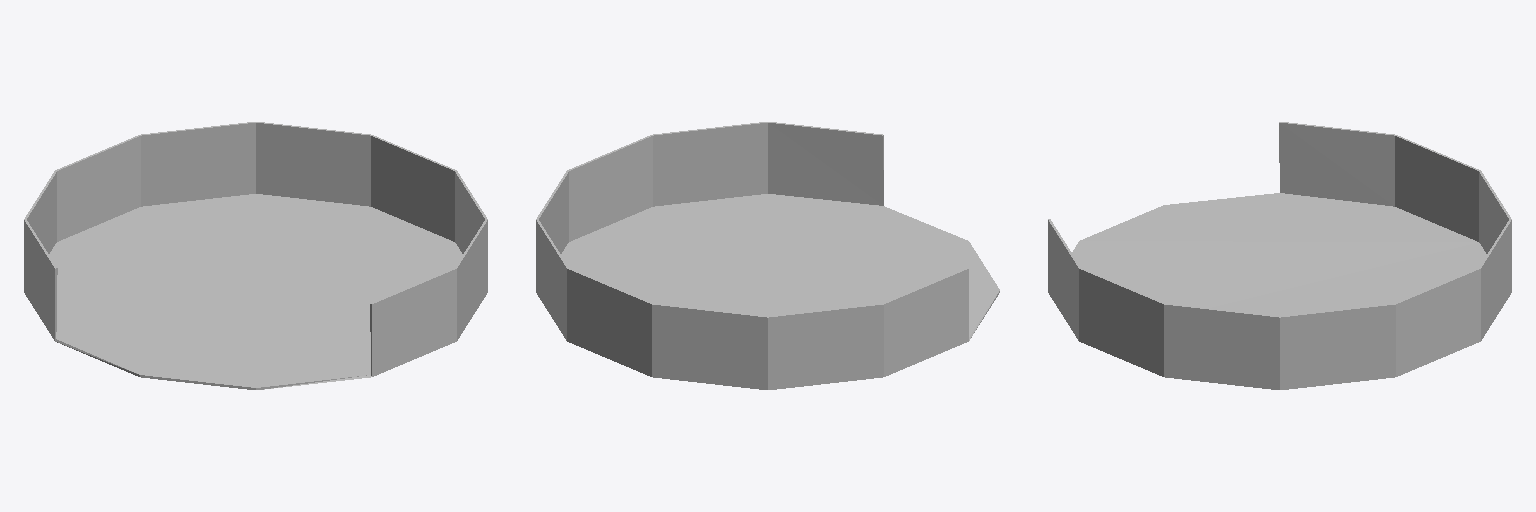
File: lift.obj
The picture shows the model from 3 angles: view 1: azimuth 30°, elevation 25°; view 2: azimuth 150°, elevation 25°; view 3: azimuth 270°, elevation 25°; orthographic projection.
Visible parts, largest first — view 1: Lift; view 2: Lift; view 3: Lift.
Boxes of the visible parts, x1,y1,x2,y2 form: Lift: [24, 122, 487, 389]; Lift: [536, 122, 999, 389]; Lift: [1048, 122, 1511, 389].
Bounding box in the file's own units: 1.73 × 0.3 × 1.73.